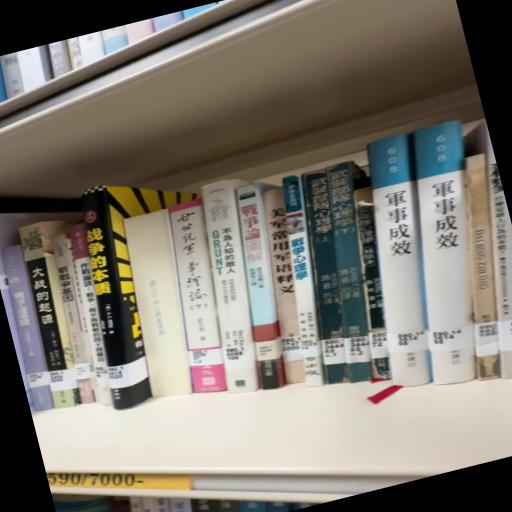backward: (111, 206, 212, 402)
book: (331, 139, 472, 403), (377, 124, 512, 396), (282, 158, 412, 390), (184, 182, 304, 403), (152, 195, 252, 399), (1, 243, 56, 389)
